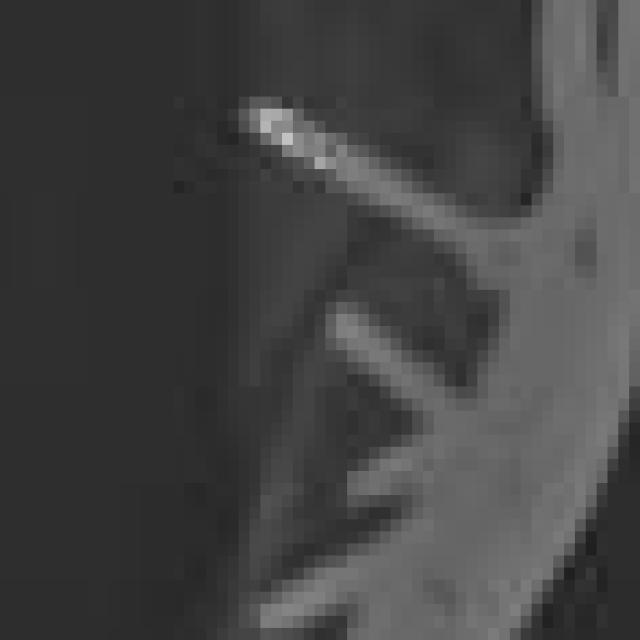fracture: (0, 0, 640, 638)
